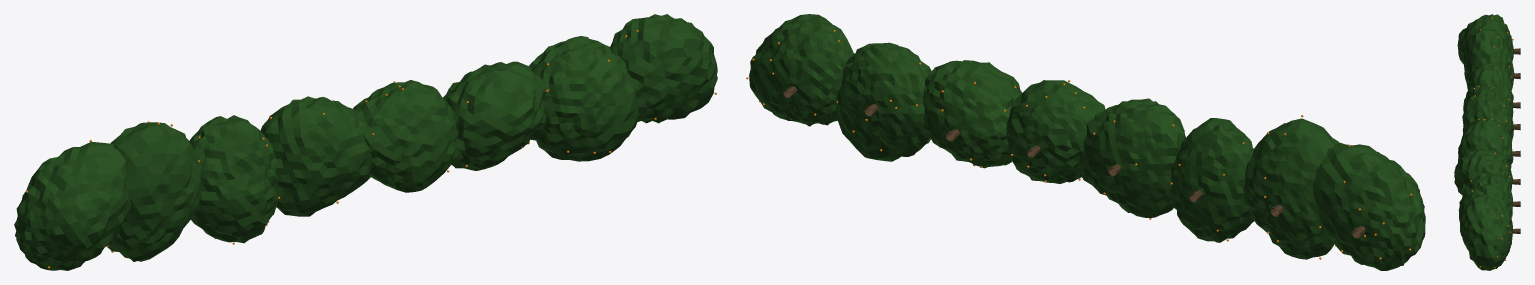
Rendered from citrus_run8_d_fruit.obj.
The picture shows the model from 3 angles, left to right: view 1: azimuth 30°, elevation 25°; view 2: azimuth 150°, elevation 25°; view 3: azimuth 270°, elevation 25°; orthographic projection. The views are drawn at different scales.
Parts seen in each view (by area): view 1: canopy; view 2: canopy, trunk, fruit; view 3: canopy, trunk, fruit.
Boxes of the visible parts, x1,y1,x2,y2 form: canopy: [14, 14, 717, 270]; canopy: [749, 14, 1425, 270]; trunk: [783, 86, 1365, 238]; fruit: [746, 30, 1412, 259]; canopy: [1454, 14, 1514, 270]; trunk: [1512, 48, 1520, 233]; fruit: [1470, 17, 1513, 268].
Size of the model in its own units: 24.77 by 4.96 by 3.27.
